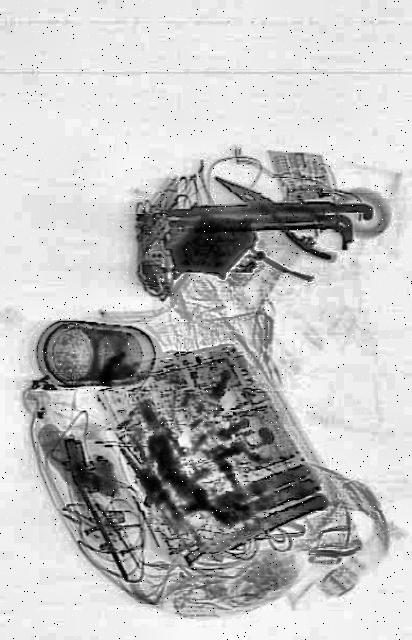Pliers: (209, 155, 353, 269)
